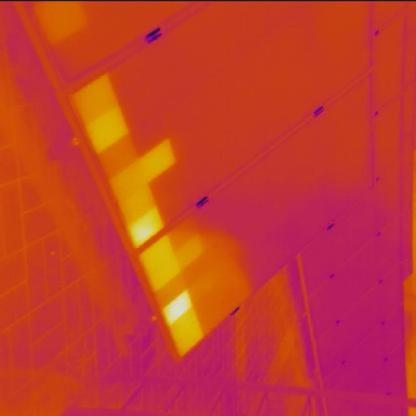anomaly: (73, 76, 172, 248), (144, 238, 205, 358)
